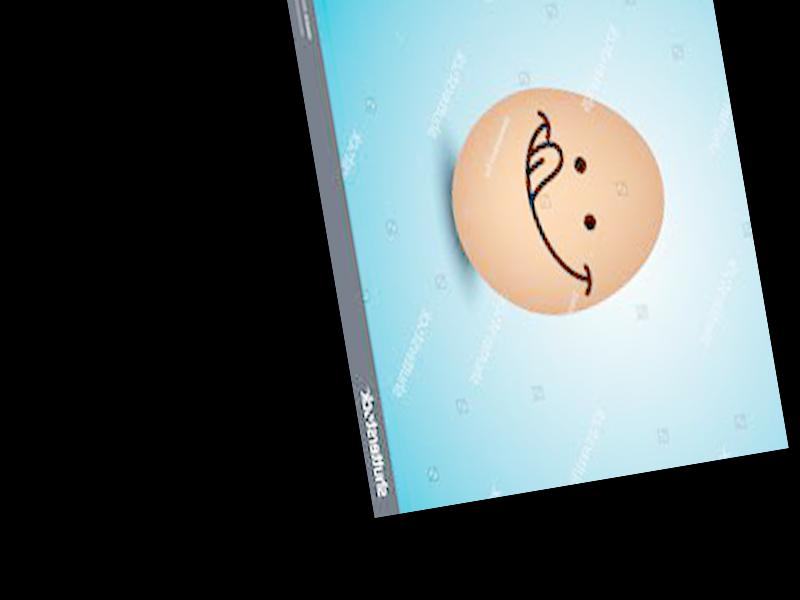Eggs: (434, 69, 681, 330)
